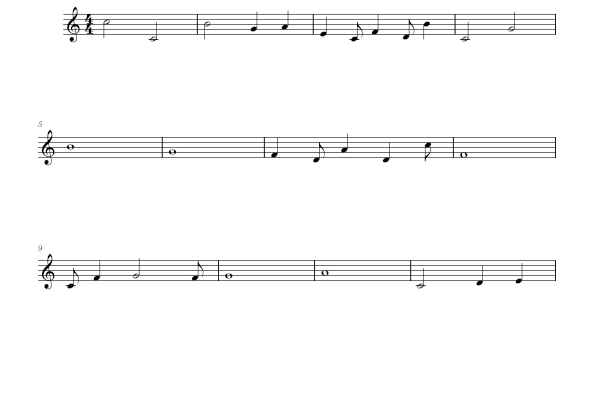Treble Clef: (63, 1, 83, 45), (38, 128, 58, 169), (38, 252, 58, 292)
